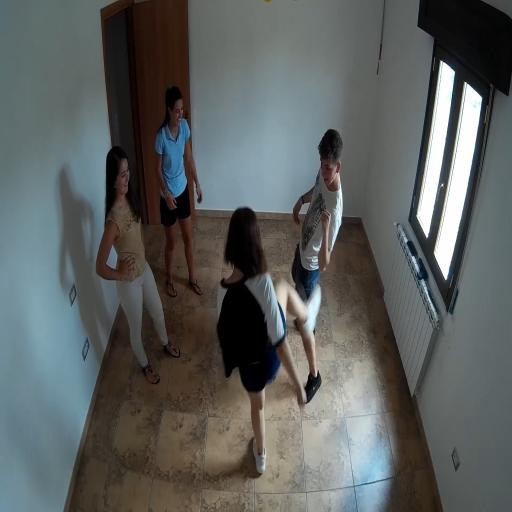violencia: (202, 111, 354, 483)
